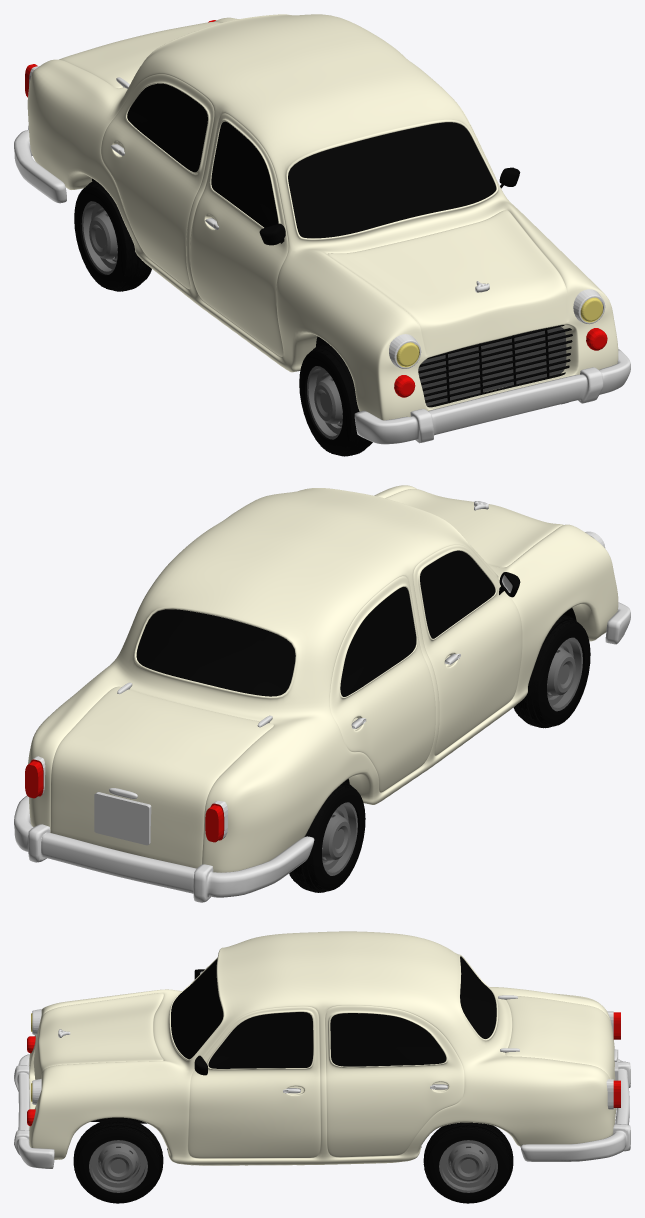
File: basic_old_hindustan_ambassador_car_only_body.glb
3 views of the same model, one above another, from view 1: azimuth 30°, elevation 25°; view 2: azimuth 150°, elevation 25°; view 3: azimuth 270°, elevation 25° (orthographic). The views are drawn at different scales.
Parts seen in each view (by area): view 1: Plane, Plane.006, Cylinder.002, Plane.002, Plane.010, Plane.005, Plane.001, Plane.004, Cylinder, Plane.003, Cube.007, Cylinder.001; view 2: Plane, Cylinder.002, Plane.007, Plane.003, Plane.005, Plane.004, Cube.002, Cube.001, Plane.002; view 3: Plane, Cylinder.002, Plane.005, Plane.004, Plane.006, Plane.003, Plane.007, Plane.002, Cube.001, Cylinder.
Boxes of the visible parts, x1=… form: Plane: x1=27, y1=14, x2=618, y2=420; Plane.006: x1=288, y1=122, x2=496, y2=238; Cylinder.002: x1=74, y1=180, x2=568, y2=456; Plane.002: x1=354, y1=349, x2=630, y2=444; Plane.010: x1=418, y1=326, x2=566, y2=405; Plane.005: x1=127, y1=83, x2=207, y2=172; Plane.001: x1=418, y1=325, x2=572, y2=407; Plane.004: x1=211, y1=121, x2=278, y2=227; Cylinder: x1=389, y1=289, x2=605, y2=368; Plane.003: x1=14, y1=126, x2=66, y2=203; Cube.007: x1=259, y1=167, x2=520, y2=245; Cylinder.001: x1=394, y1=328, x2=607, y2=397; Plane: x1=28, y1=485, x2=618, y2=872; Cylinder.002: x1=289, y1=614, x2=590, y2=892; Plane.007: x1=136, y1=609, x2=295, y2=696; Plane.003: x1=14, y1=795, x2=314, y2=902; Plane.005: x1=340, y1=587, x2=416, y2=696; Plane.004: x1=420, y1=550, x2=495, y2=638; Cube.002: x1=94, y1=792, x2=151, y2=845; Cube.001: x1=25, y1=756, x2=227, y2=842; Plane.002: x1=605, y1=602, x2=630, y2=644; Plane: x1=29, y1=931, x2=616, y2=1165; Cylinder.002: x1=73, y1=1118, x2=513, y2=1203; Plane.005: x1=330, y1=1013, x2=446, y2=1066; Plane.004: x1=208, y1=1012, x2=313, y2=1068; Plane.006: x1=171, y1=958, x2=223, y2=1059; Plane.003: x1=520, y1=1059, x2=630, y2=1161; Plane.007: x1=460, y1=956, x2=496, y2=1038; Plane.002: x1=14, y1=1054, x2=54, y2=1168; Cube.001: x1=606, y1=1011, x2=620, y2=1109; Cylinder: x1=31, y1=1009, x2=41, y2=1105.
Size of the model in its own units: 2.22 by 2.1 by 5.75.
